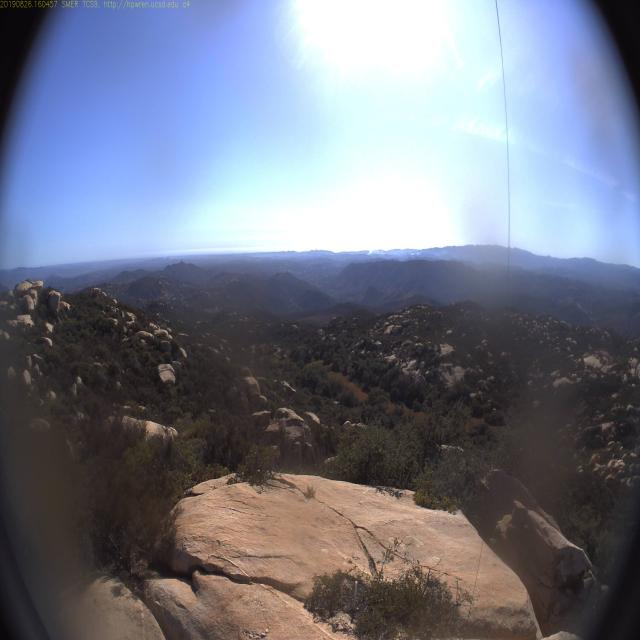smoke: (409, 249, 421, 256), (366, 250, 374, 258)
